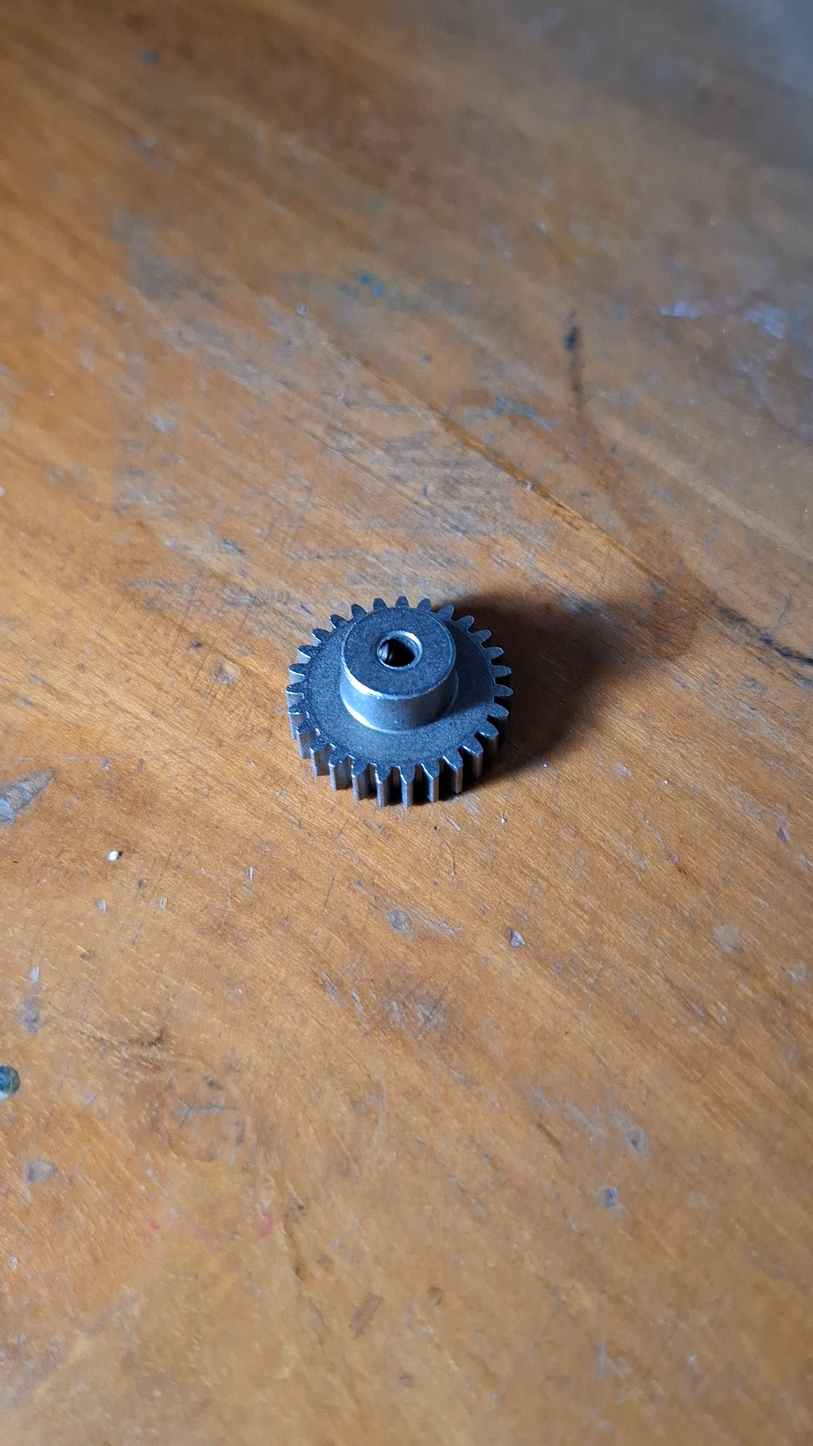spur gear: (287, 596, 512, 805)
